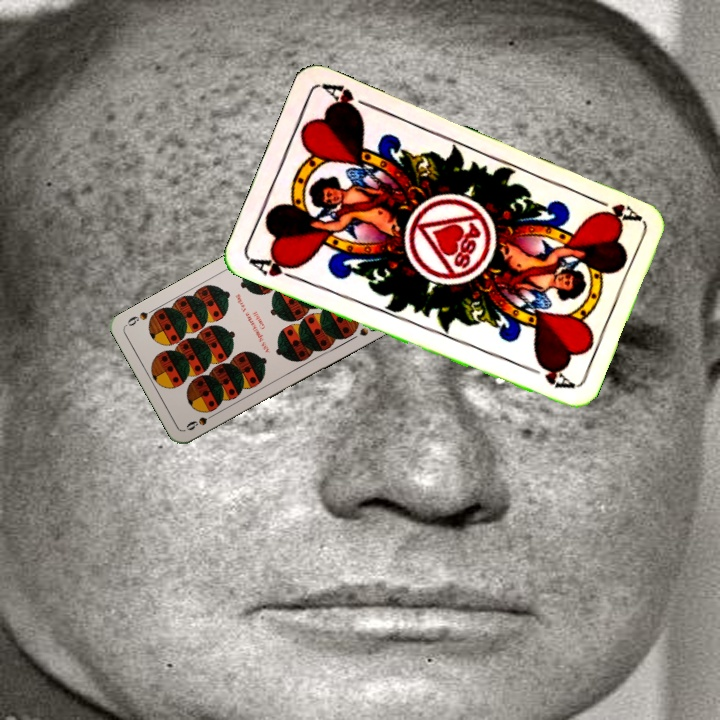HA: (246, 251, 304, 283), (586, 192, 643, 224)
S9: (182, 408, 220, 433)
